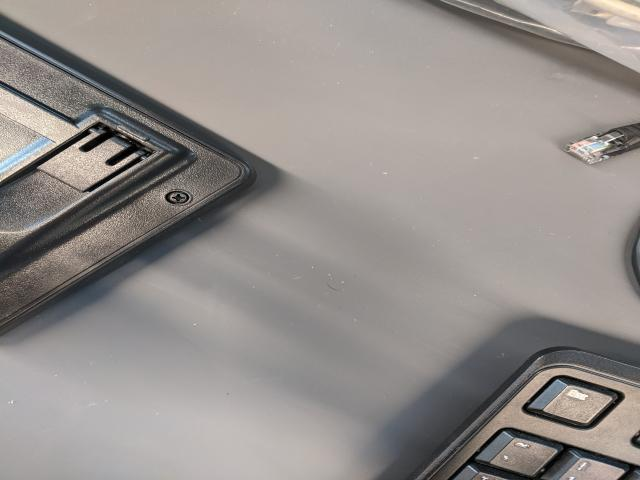CRS: (166, 191, 190, 204)
